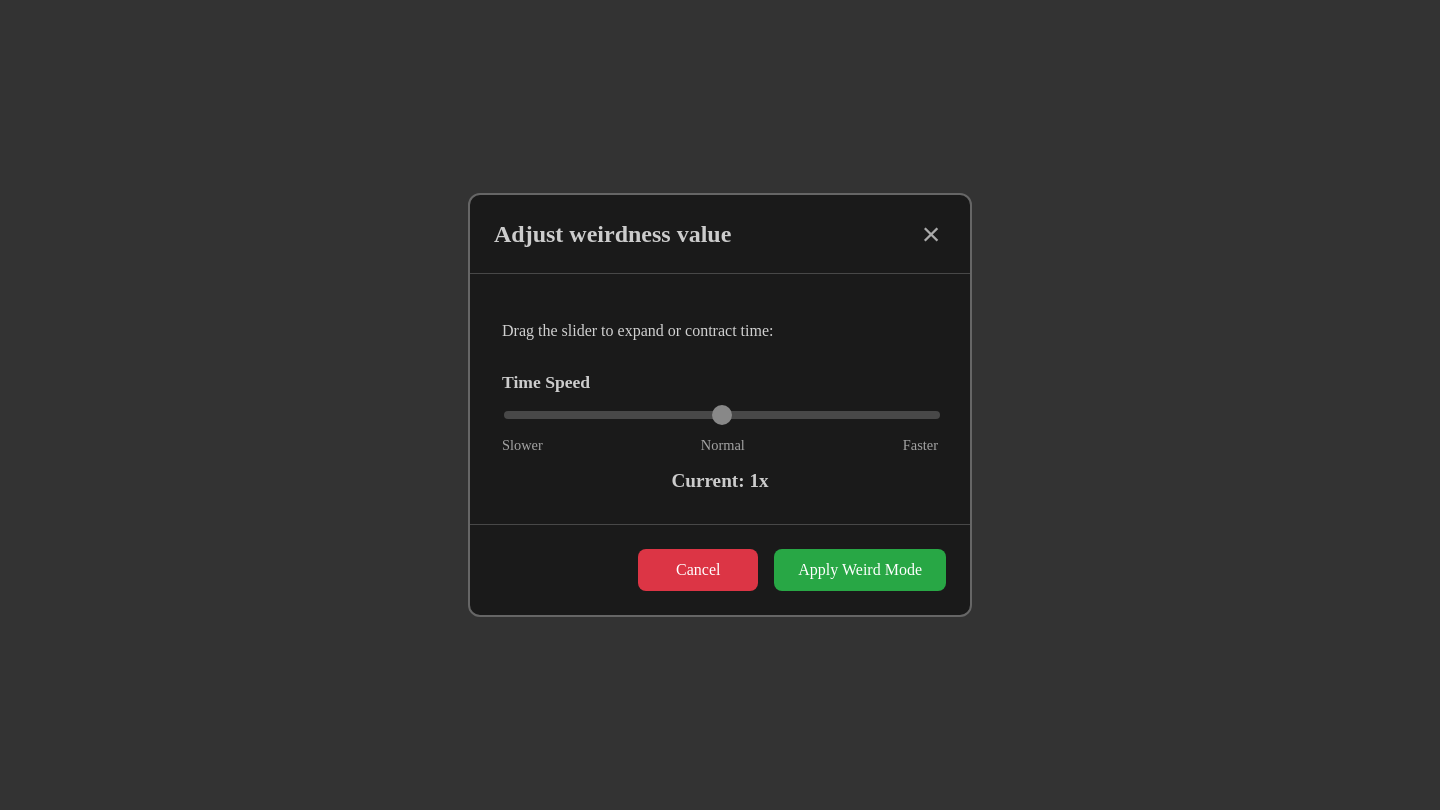
Test: WeirdModeModal › updates timeWarpValue when slider changes
Set the slider with class "time-warp-slider" to "1.5" at point(839, 415), box x1=504 y1=411 x2=940 y2=419
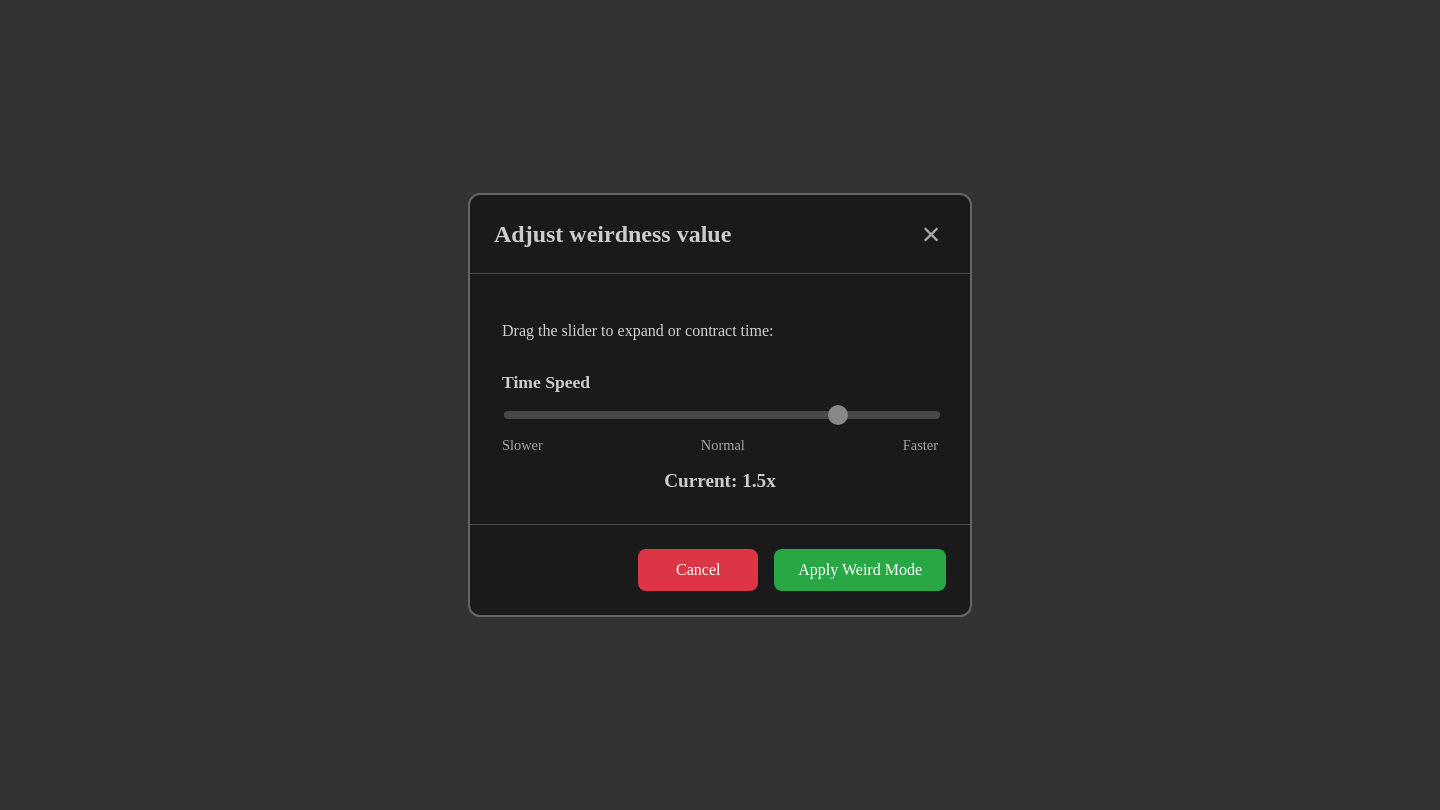
Check: the text "Current: 1.5x" is shown, box x1=664 y1=470 x2=776 y2=491
